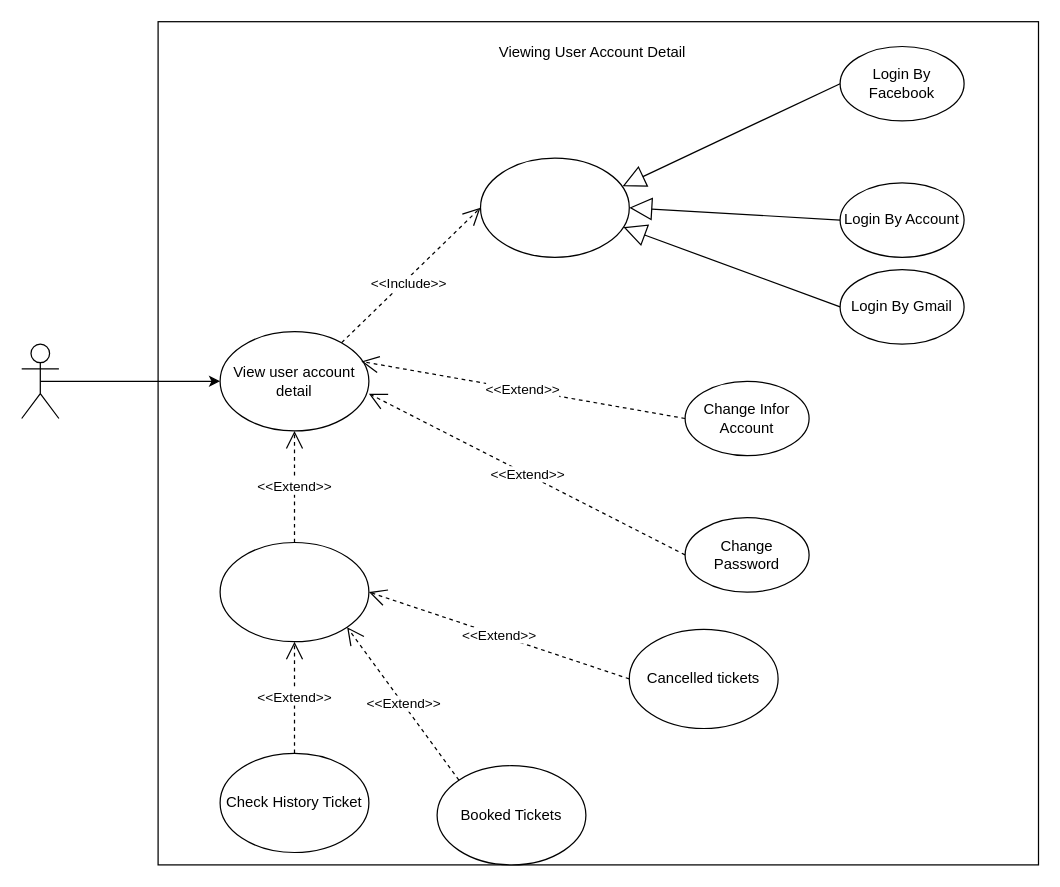
Some shapes in this 1060 by 887 pixel diagram are drawn without their labels. The shapes that lost their labels are listed below. From the top down, each one's centre as x and y in pixels, then its label:
(554,207): Login
(39,380): User
(294,591): Check Info Ticket
